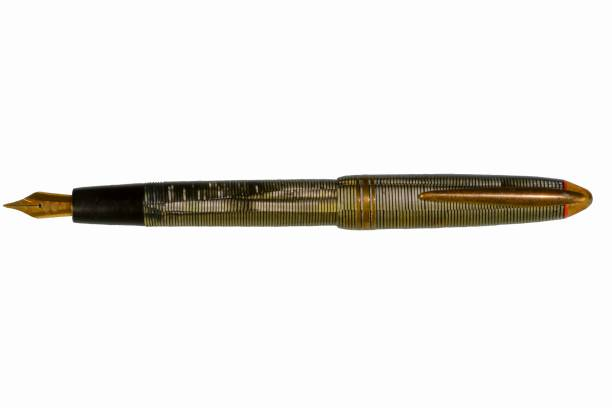pen: (3, 168, 601, 251)
